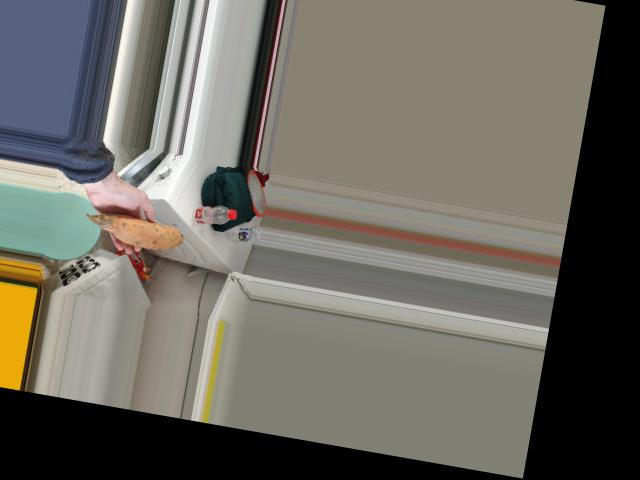sweet_potato: (86, 207, 185, 254)
